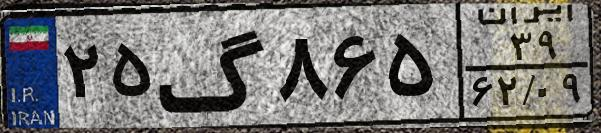0: (535, 70, 560, 125)
2: (57, 26, 110, 100), (495, 70, 520, 125)
3: (508, 27, 537, 80)
5: (385, 28, 445, 110), (110, 28, 156, 98)
6: (330, 28, 385, 110), (470, 70, 495, 125)
8: (270, 28, 330, 110)
9: (560, 70, 590, 125), (537, 27, 568, 80)
گ: (156, 12, 270, 120)
